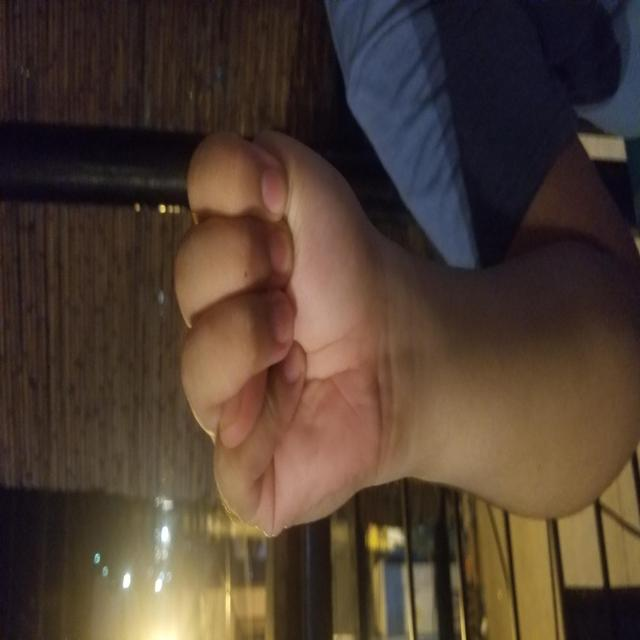M: (98, 102, 484, 570)
